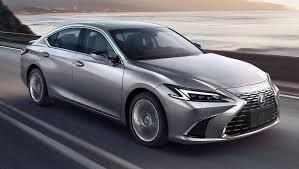lexus: (255, 91, 266, 104)
